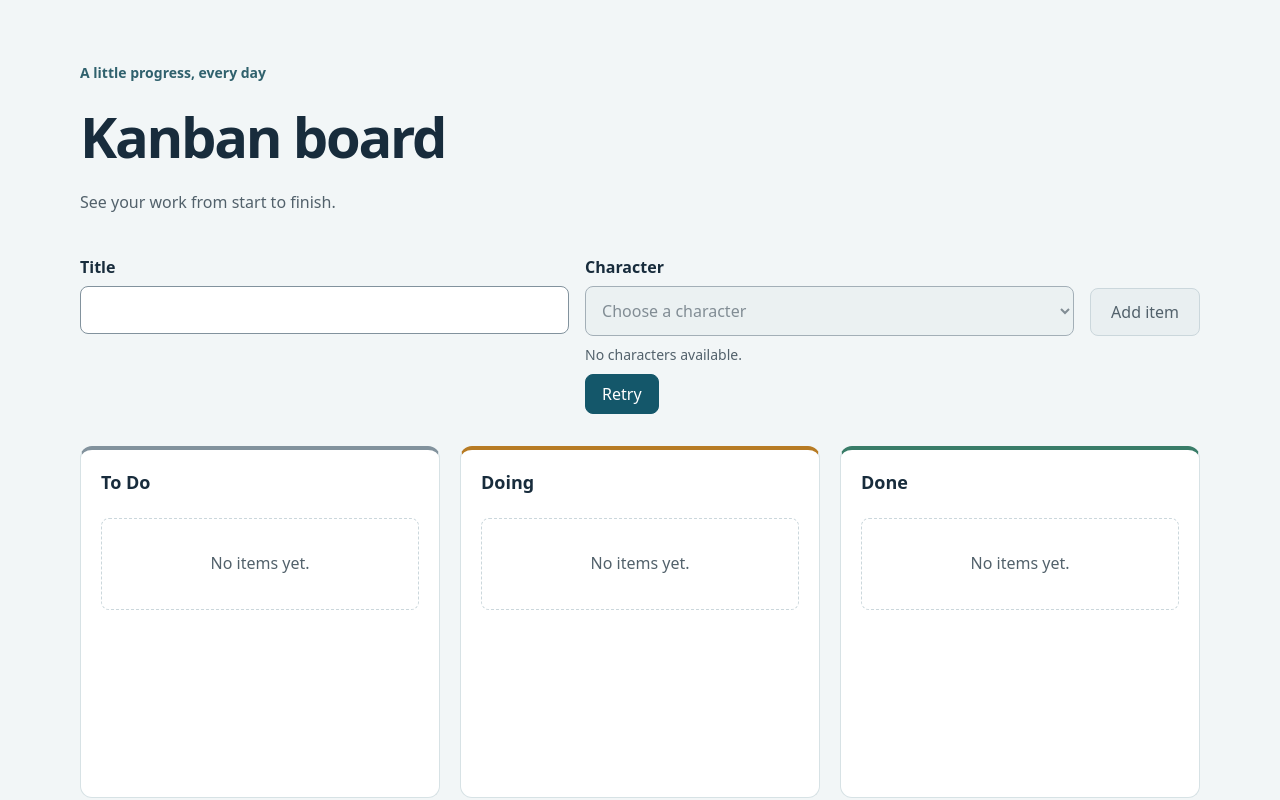
Test: Character loading recovery › allows recovery from an empty result while keeping creation disabled until selection
Expected: the text "No characters available." is shown, [585,345,742,364]
Expected: the dropdown labelled "Character" is disabled, [585,286,1074,336]
Click the button "Retry": [622, 394] box [585,374,658,414]
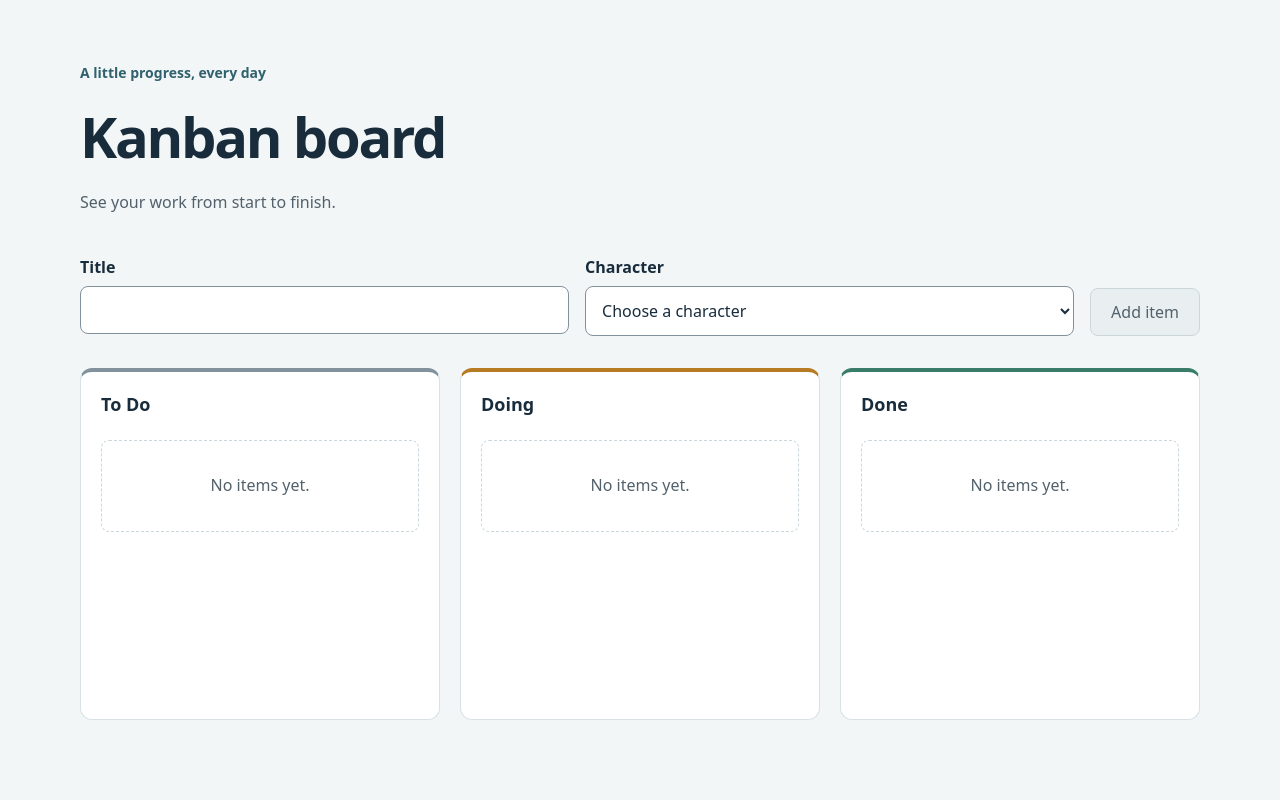
Expected: the button "Add item" is disabled, [1090,288,1200,336]
Now the text "No characters available." is gone
Now the dropdown labelled "Character" is enabled, box [585,286,1074,336]
